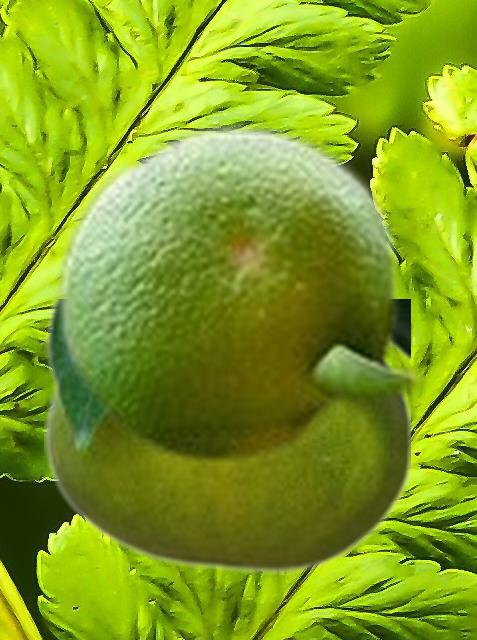dalandan: (52, 118, 426, 464), (44, 299, 409, 573)
